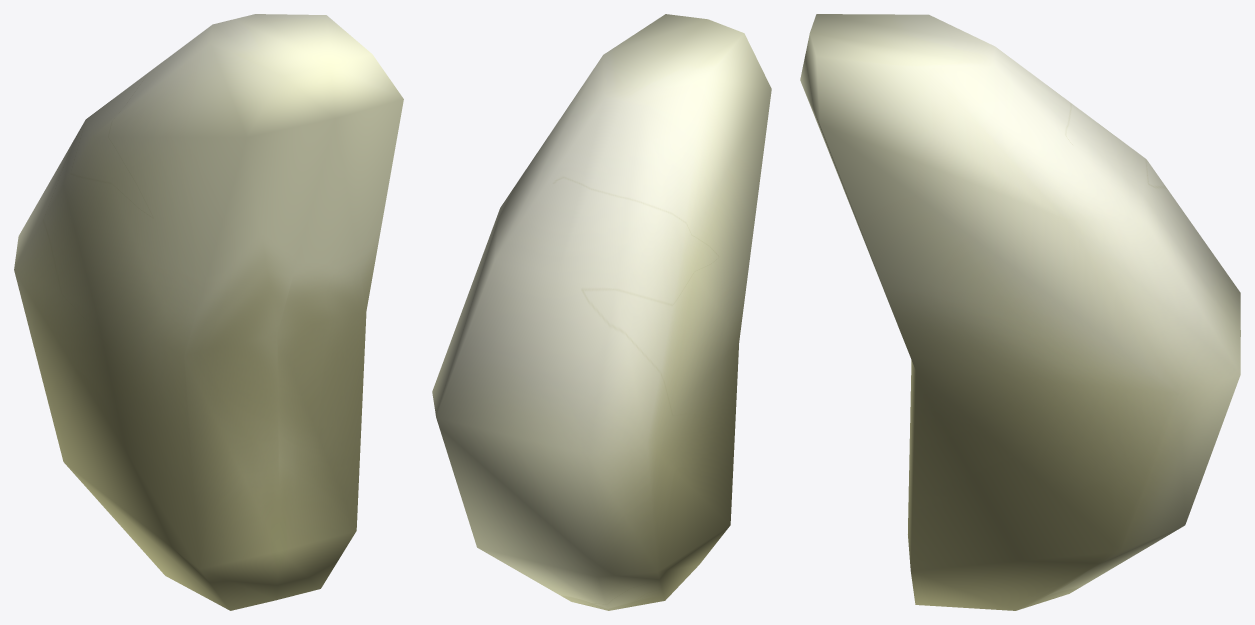
The model's file is Garlic Clove.fbx.
The picture shows the model from 3 angles, left to right: view 1: azimuth 30°, elevation 25°; view 2: azimuth 150°, elevation 25°; view 3: azimuth 270°, elevation 25°; orthographic projection. The views are drawn at different scales.
Visible parts, largest first — view 1: Cube.002; view 2: Cube.002; view 3: Cube.002.
Boxes of the visible parts, x1=… form: Cube.002: x1=14, y1=14, x2=403, y2=610; Cube.002: x1=432, y1=14, x2=771, y2=610; Cube.002: x1=800, y1=14, x2=1240, y2=610.
Size of the model in its own units: 55.72 by 124 by 90.
Materials: 1 (1 with a texture image).
